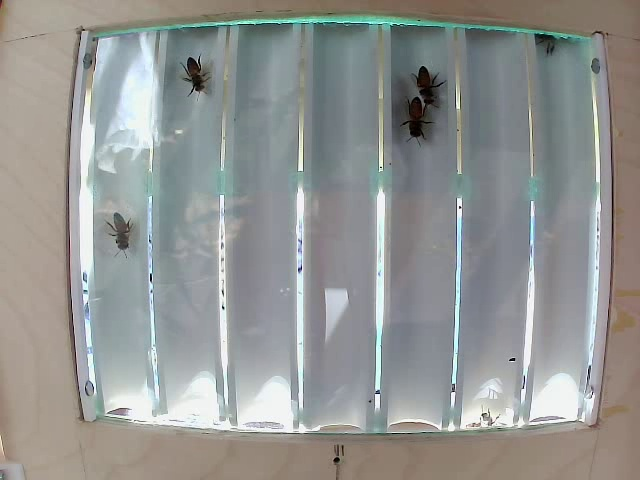bee: (107, 212, 140, 266), (410, 59, 443, 111), (184, 55, 217, 98), (403, 98, 425, 145)
